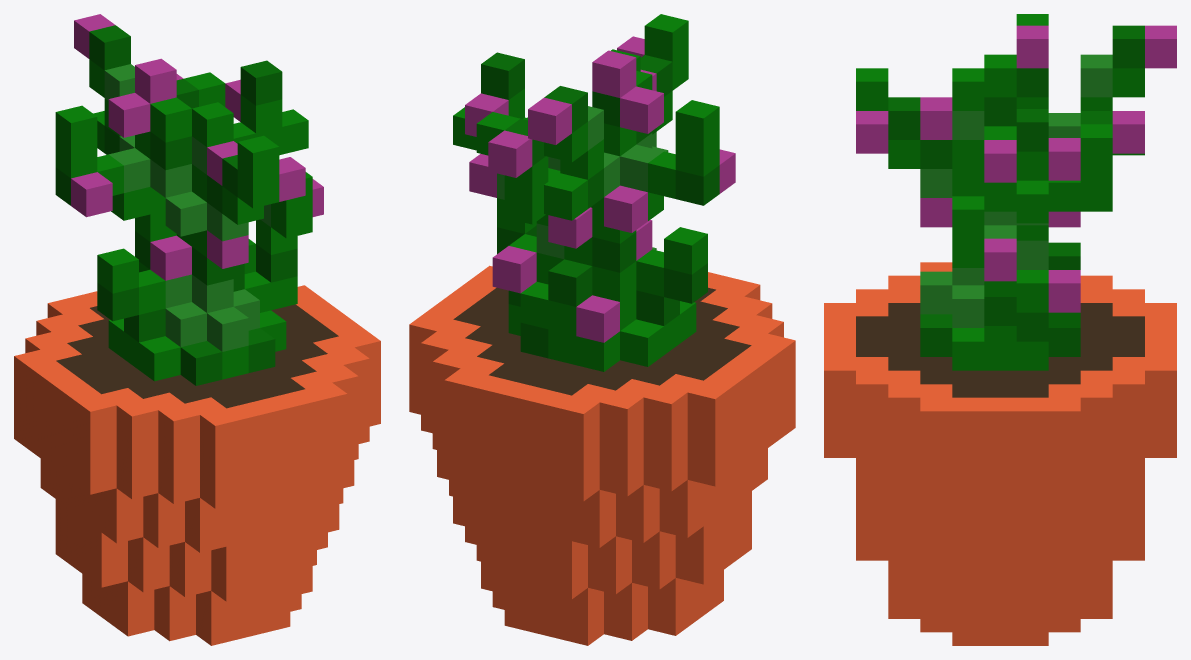
Rendered from Vaso.obj.
3 views of the same model, side by side, from view 1: azimuth 30°, elevation 25°; view 2: azimuth 150°, elevation 25°; view 3: azimuth 270°, elevation 25° (orthographic). The views are drawn at different scales.
Bounding box in the file's own units: 1.1 × 1.9 × 1.1.
Materials: 1 (1 with a texture image).
